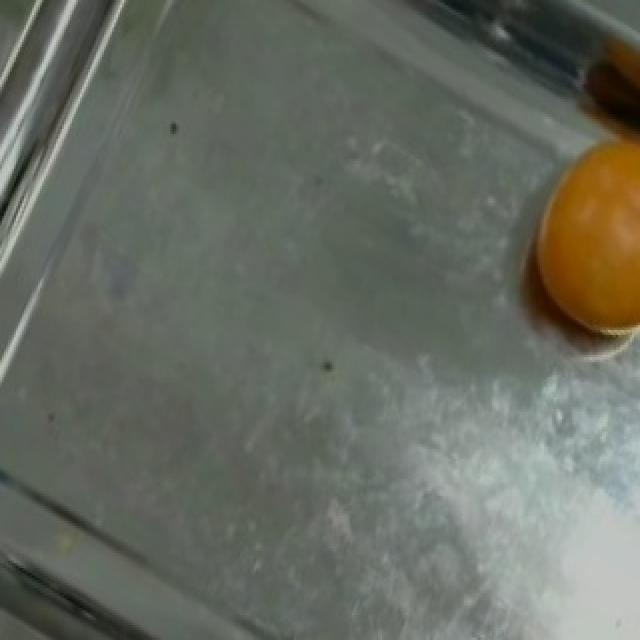Fruit: (506, 116, 638, 360)
